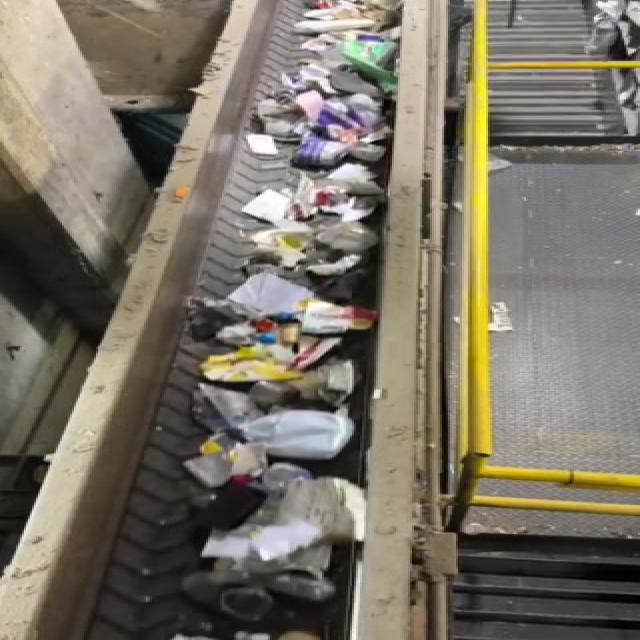hdpe: (235, 412, 358, 462)
paper: (275, 474, 376, 542)
pp: (186, 566, 352, 618), (192, 476, 262, 534)
